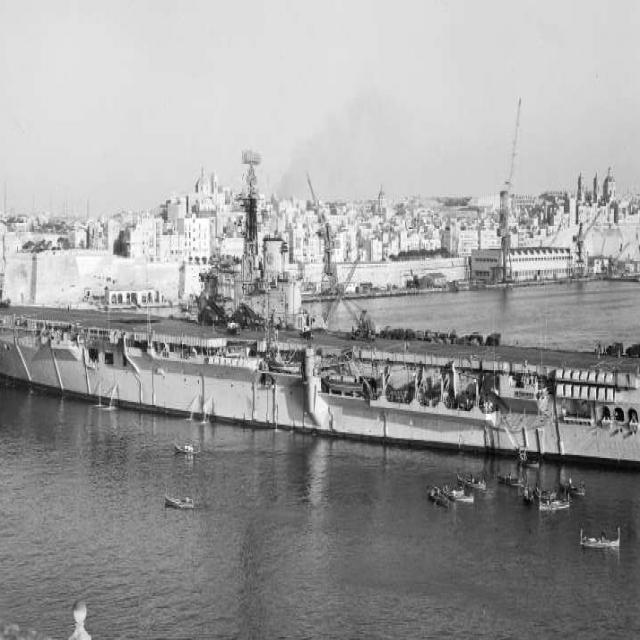Portanaves: (1, 135, 640, 476)
